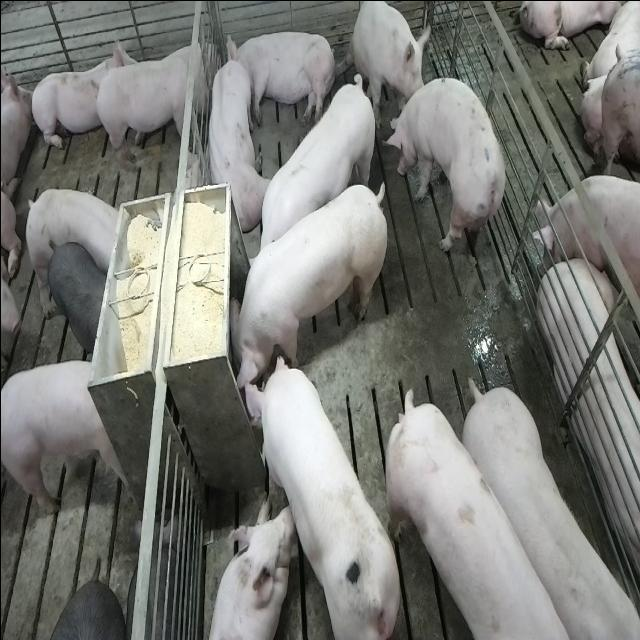Feeding: (238, 350, 406, 636), (221, 175, 384, 409)
Lateral_lying: (539, 254, 640, 618), (225, 28, 338, 128)
Sitting: (346, 1, 428, 120)
Standing: (386, 384, 586, 640), (464, 380, 640, 640), (246, 72, 380, 288), (388, 76, 509, 274), (1, 357, 135, 513), (90, 34, 218, 174), (534, 173, 640, 308), (24, 184, 130, 280), (46, 238, 109, 355)
Sternal_lying: (203, 498, 291, 640), (28, 32, 130, 154), (202, 49, 265, 232)
